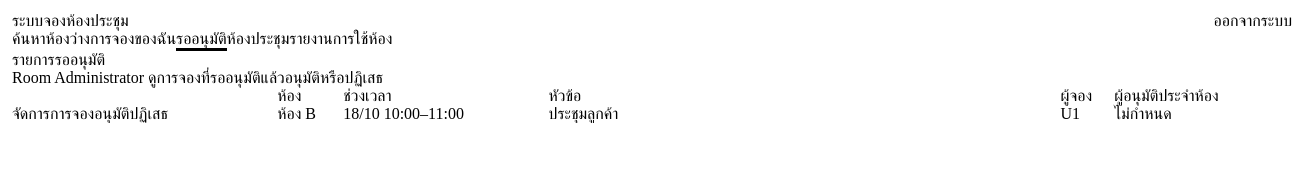
Scenario: FE-mrr-007 pending approvals page (UI-mrr-009) › AC-mrr-038 if the api refuses anyway, its words show and the booking stays in the queue
The width and height of the screenshot is (1304, 172).
Click the button with test id "ui-mrr-009-approve": [112, 114] box [94,105,130,123]
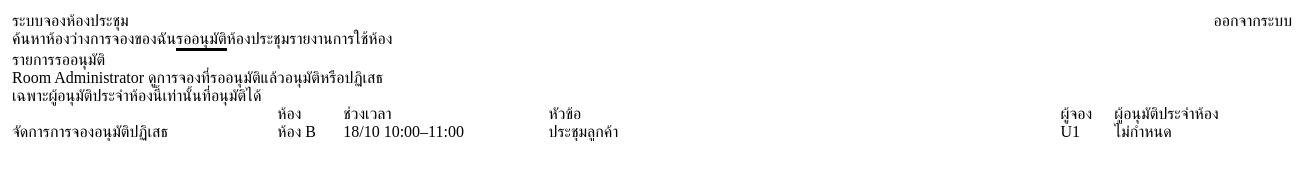
Expected: the cell with test id "ui-mrr-009-ent-007-title" reads "ประชุมลูกค้า", [548,123,618,140]
Result: the message reads "เฉพาะผู้อนุมัติประจำห้องนี้เท่านั้นที่อนุมัติได้" at [12,87,261,104]
